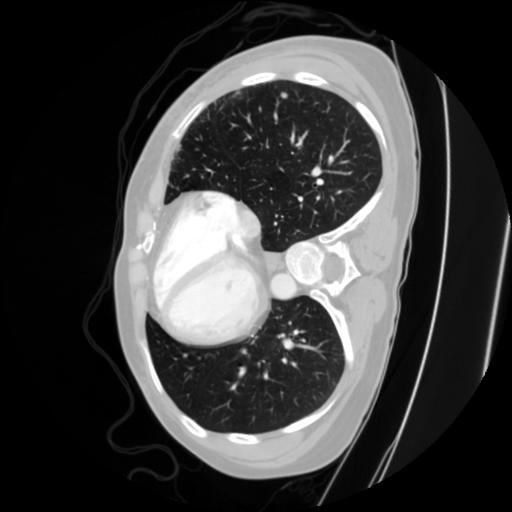nodule: (276, 86, 291, 101)
